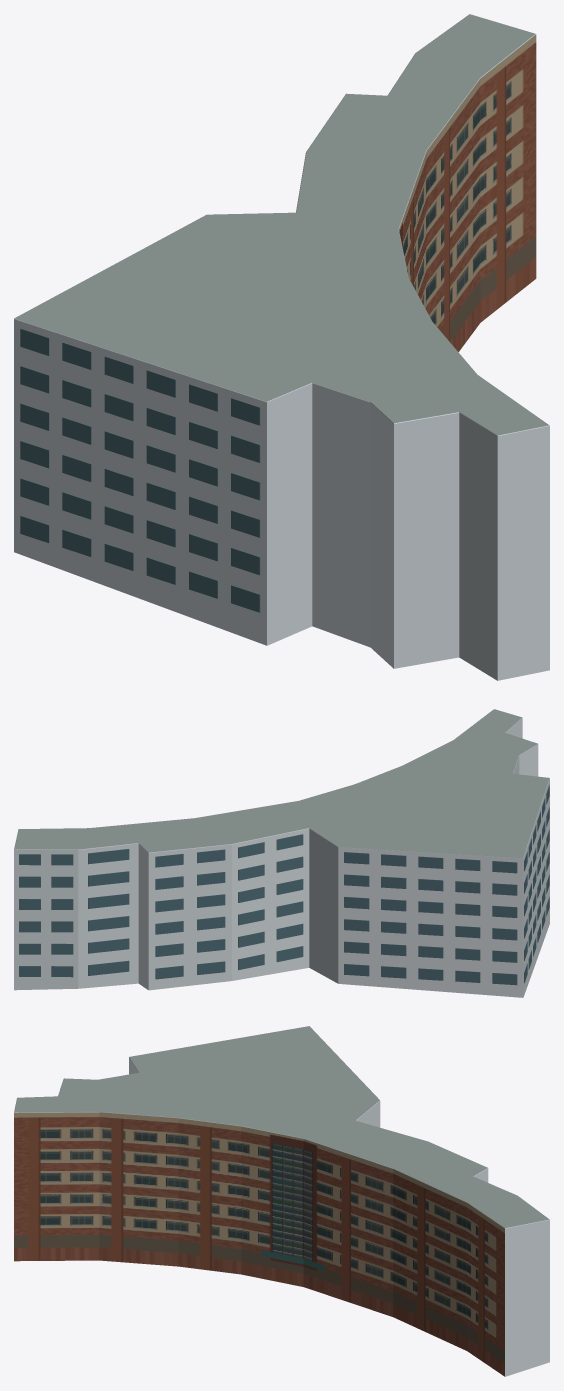
File: fragments.glb
The picture shows the model from 3 angles, top to bottom: view 1: azimuth 30°, elevation 25°; view 2: azimuth 150°, elevation 25°; view 3: azimuth 270°, elevation 25°; orthographic projection. The views are drawn at different scales.
Parts seen in each view (by area): view 1: SM_baekho_Fragment_031, SM_baekho_Fragment_023, SM_baekho_Fragment_000, SM_baekho_Fragment_007, SM_baekho_Fragment_045, SM_baekho_Fragment_010, SM_baekho_Fragment_019, SM_baekho_Fragment_011, SM_baekho_Fragment_057, SM_baekho_Fragment_049, SM_baekho_Fragment_054, SM_baekho_Fragment_043 (+26 smaller); view 2: SM_baekho_Fragment_036, SM_baekho_Fragment_013, SM_baekho_Fragment_028, SM_baekho_Fragment_063, SM_baekho_Fragment_039, SM_baekho_Fragment_001, SM_baekho_Fragment_016, SM_baekho_Fragment_008, SM_baekho_Fragment_037, SM_baekho_Fragment_040, SM_baekho_Fragment_061, SM_baekho_Fragment_005 (+26 smaller); view 3: SM_baekho_Fragment_022, SM_baekho_Fragment_039, SM_baekho_Fragment_011, SM_baekho_Fragment_006, SM_baekho_Fragment_007, SM_baekho_Fragment_027, SM_baekho_Fragment_025, SM_baekho_Fragment_012, SM_baekho_Fragment_062, SM_baekho_Fragment_009, SM_baekho_Fragment_028, SM_baekho_Fragment_046 (+26 smaller).
Boxes of the visible parts, left/top/right/bottom form: SM_baekho_Fragment_031: left=231, top=342, right=395, bottom=466; SM_baekho_Fragment_023: left=14, top=289, right=168, bottom=415; SM_baekho_Fragment_000: left=353, top=380, right=470, bottom=507; SM_baekho_Fragment_007: left=437, top=551, right=549, bottom=680; SM_baekho_Fragment_045: left=104, top=338, right=246, bottom=435; SM_baekho_Fragment_010: left=132, top=421, right=264, bottom=523; SM_baekho_Fragment_019: left=345, top=477, right=460, bottom=622; SM_baekho_Fragment_011: left=264, top=287, right=445, bottom=354; SM_baekho_Fragment_057: left=179, top=510, right=289, bottom=624; SM_baekho_Fragment_049: left=82, top=485, right=191, bottom=617; SM_baekho_Fragment_054: left=460, top=384, right=549, bottom=510; SM_baekho_Fragment_043: left=14, top=443, right=115, bottom=567; SM_baekho_Fragment_036: left=381, top=842, right=488, bottom=915; SM_baekho_Fragment_013: left=140, top=867, right=228, bottom=956; SM_baekho_Fragment_028: left=73, top=823, right=183, bottom=894; SM_baekho_Fragment_063: left=394, top=913, right=487, bottom=992; SM_baekho_Fragment_039: left=14, top=864, right=87, bottom=961; SM_baekho_Fragment_001: left=51, top=883, right=154, bottom=957; SM_baekho_Fragment_016: left=318, top=823, right=406, bottom=902; SM_baekho_Fragment_008: left=222, top=901, right=310, bottom=979; SM_baekho_Fragment_037: left=238, top=818, right=328, bottom=895; SM_baekho_Fragment_040: left=292, top=874, right=381, bottom=954; SM_baekho_Fragment_061: left=215, top=837, right=293, bottom=927; SM_baekho_Fragment_005: left=477, top=874, right=531, bottom=972; SM_baekho_Fragment_022: left=83, top=1091, right=167, bottom=1194; SM_baekho_Fragment_039: left=465, top=1227, right=549, bottom=1331; SM_baekho_Fragment_011: left=148, top=1079, right=262, bottom=1152; SM_baekho_Fragment_006: left=142, top=1140, right=225, bottom=1232; SM_baekho_Fragment_007: left=14, top=1191, right=92, bottom=1261; SM_baekho_Fragment_027: left=14, top=1113, right=87, bottom=1193; SM_baekho_Fragment_025: left=226, top=1095, right=335, bottom=1158; SM_baekho_Fragment_012: left=250, top=1156, right=314, bottom=1244; SM_baekho_Fragment_062: left=399, top=1231, right=459, bottom=1330; SM_baekho_Fragment_009: left=473, top=1197, right=549, bottom=1268; SM_baekho_Fragment_028: left=429, top=1159, right=519, bottom=1238; SM_baekho_Fragment_046: left=392, top=1141, right=467, bottom=1231.
Size of the model in its own units: 1.97 by 0.6749 by 2.2.
Materials: 5 (1 with a texture image).
